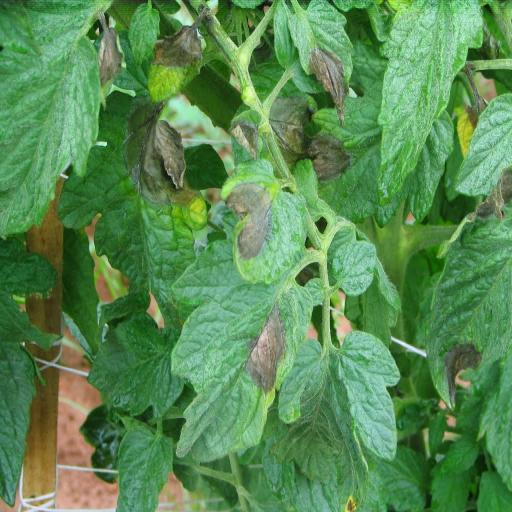Healthy: (378, 0, 482, 201), (331, 240, 377, 297)
Late Blight: (56, 74, 200, 317), (168, 236, 316, 469), (424, 162, 512, 410), (221, 169, 309, 284), (290, 3, 350, 115), (144, 11, 206, 113)
